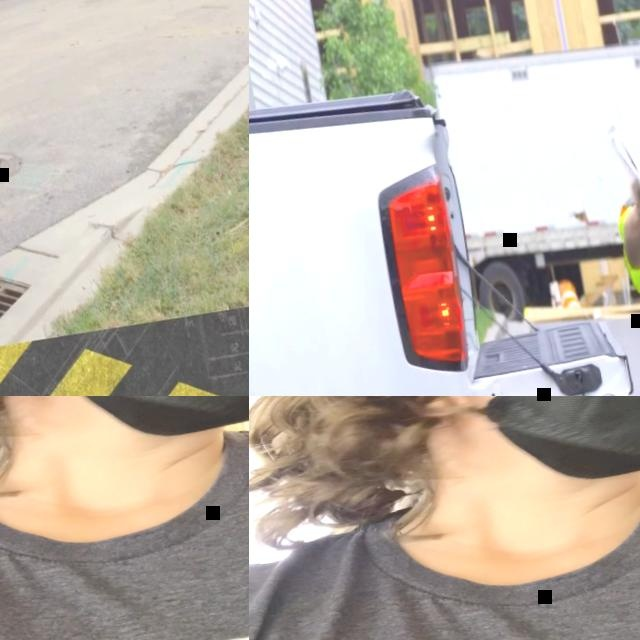Mask: (433, 396, 640, 500), (10, 396, 249, 457)
NO-Safety Vest: (249, 450, 640, 640), (0, 407, 249, 640)
Person: (249, 396, 640, 640), (0, 396, 249, 640)
vehicle: (249, 53, 640, 396)
